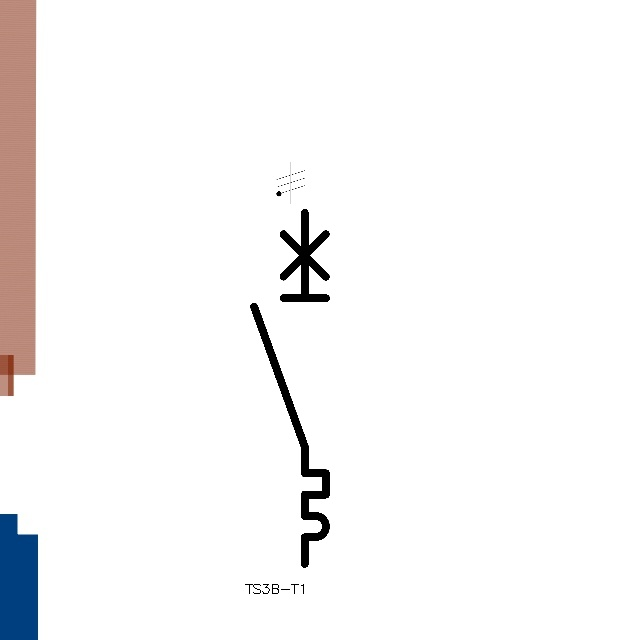interruptor_termomagnetico: (245, 203, 335, 572)
